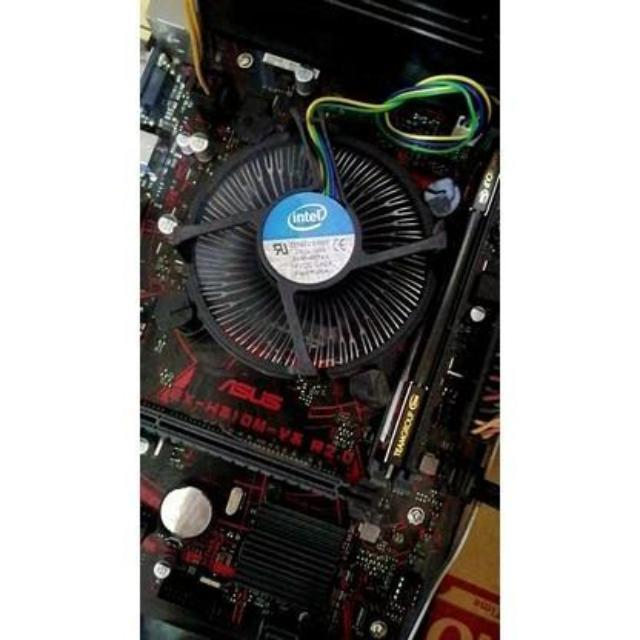CPU_Fan: (170, 113, 438, 404)
